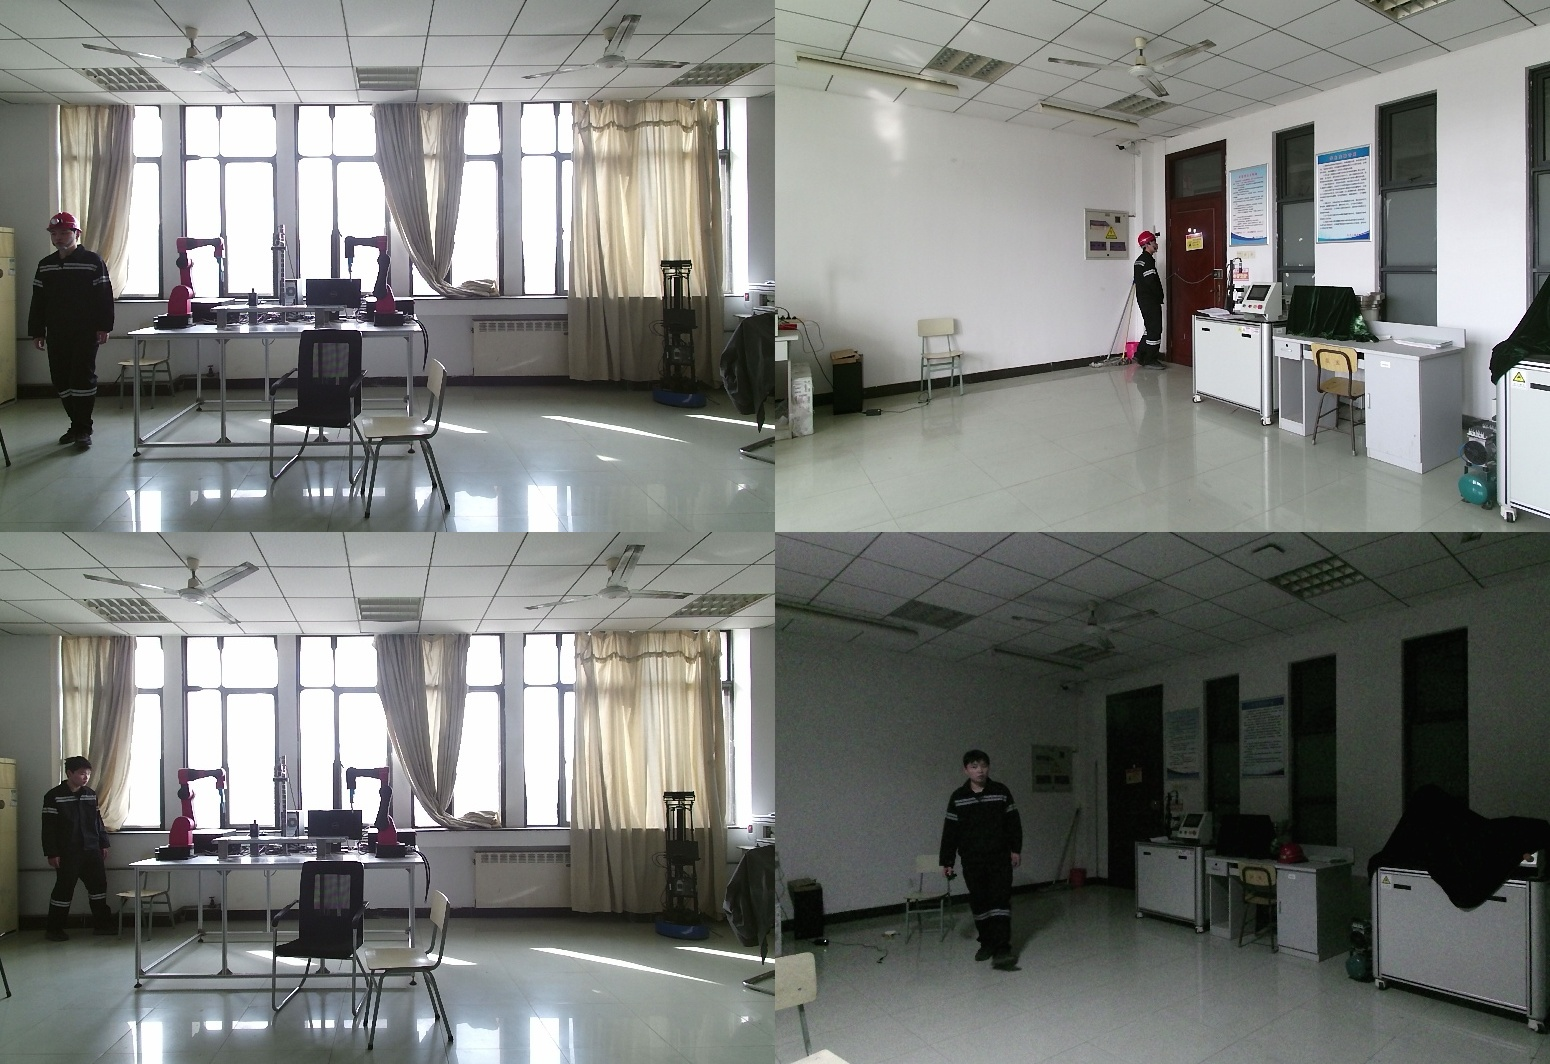person: (28, 215, 126, 447), (940, 752, 1030, 969), (35, 758, 118, 942), (1130, 229, 1165, 372)
